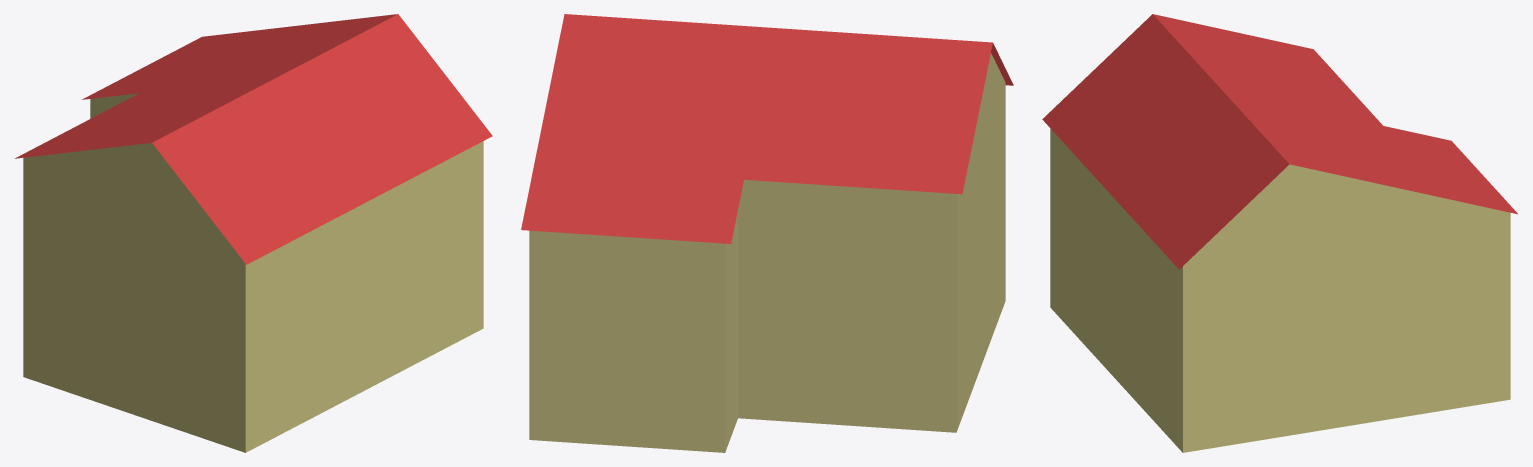
The picture shows the model from 3 angles, left to right: view 1: azimuth 30°, elevation 25°; view 2: azimuth 150°, elevation 25°; view 3: azimuth 270°, elevation 25°; orthographic projection. The views are drawn at different scales.
Bounding box in the file's own units: 18.22 × 18.86 × 11.97.
